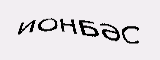К: (102, 19, 122, 41)
О: (81, 19, 94, 45)
П: (40, 13, 61, 45), (93, 20, 103, 41)
У: (62, 13, 82, 45)
